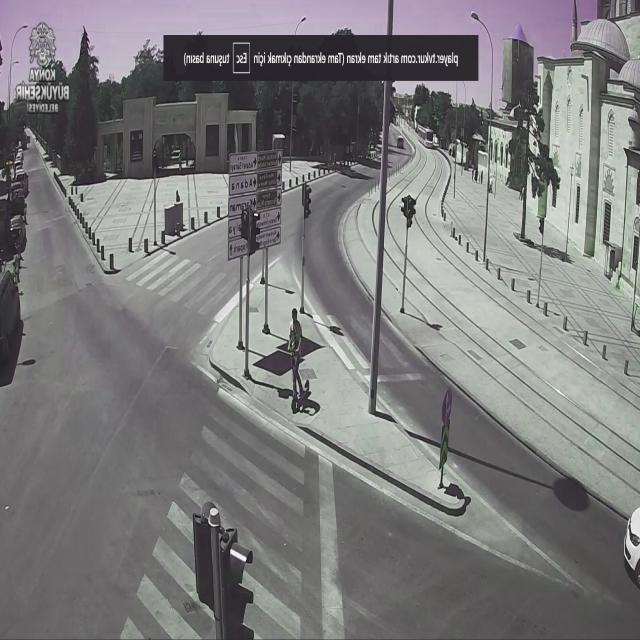Car: (9, 214, 26, 246), (10, 181, 25, 199), (396, 137, 405, 149)
Van: (0, 268, 25, 366)
